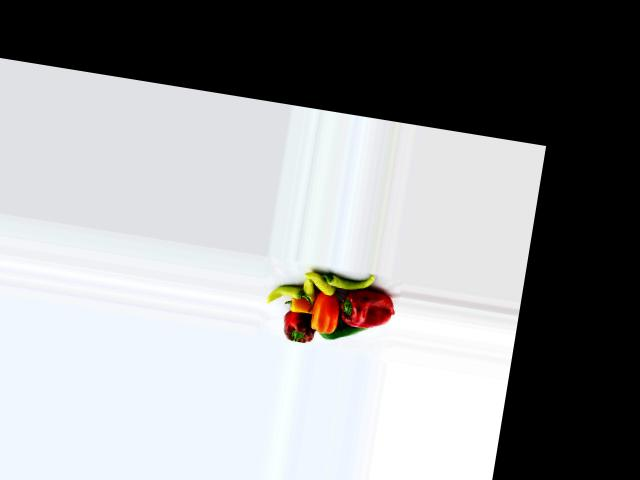bell_pepper: (317, 267, 378, 293)
